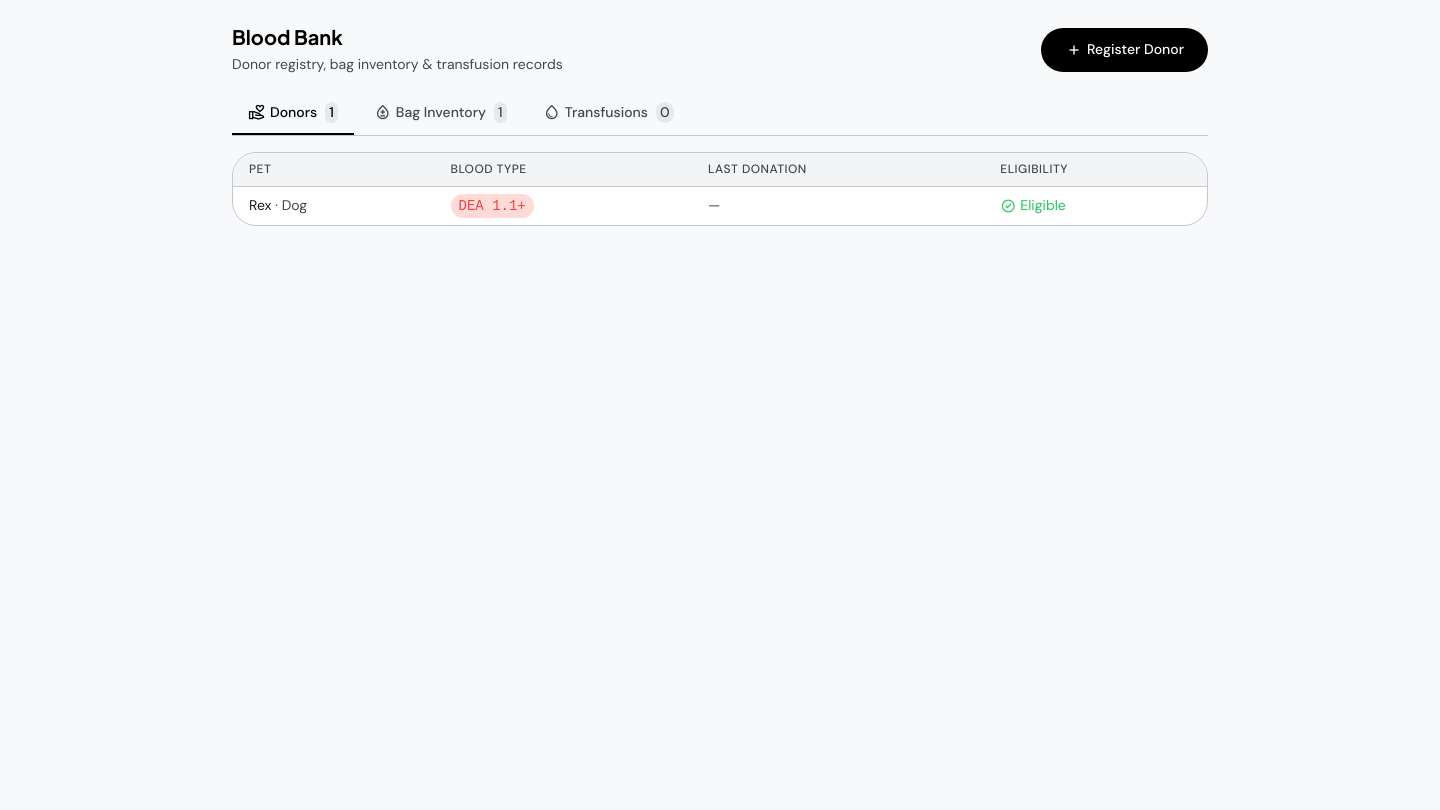
Test: AdminBloodBank — DonorModal (MODAL-9, dismissible default) › Cancel closes without submitting
Step 1. Click the button "Register Donor" → (1124, 50), box [1041,28,1208,72]
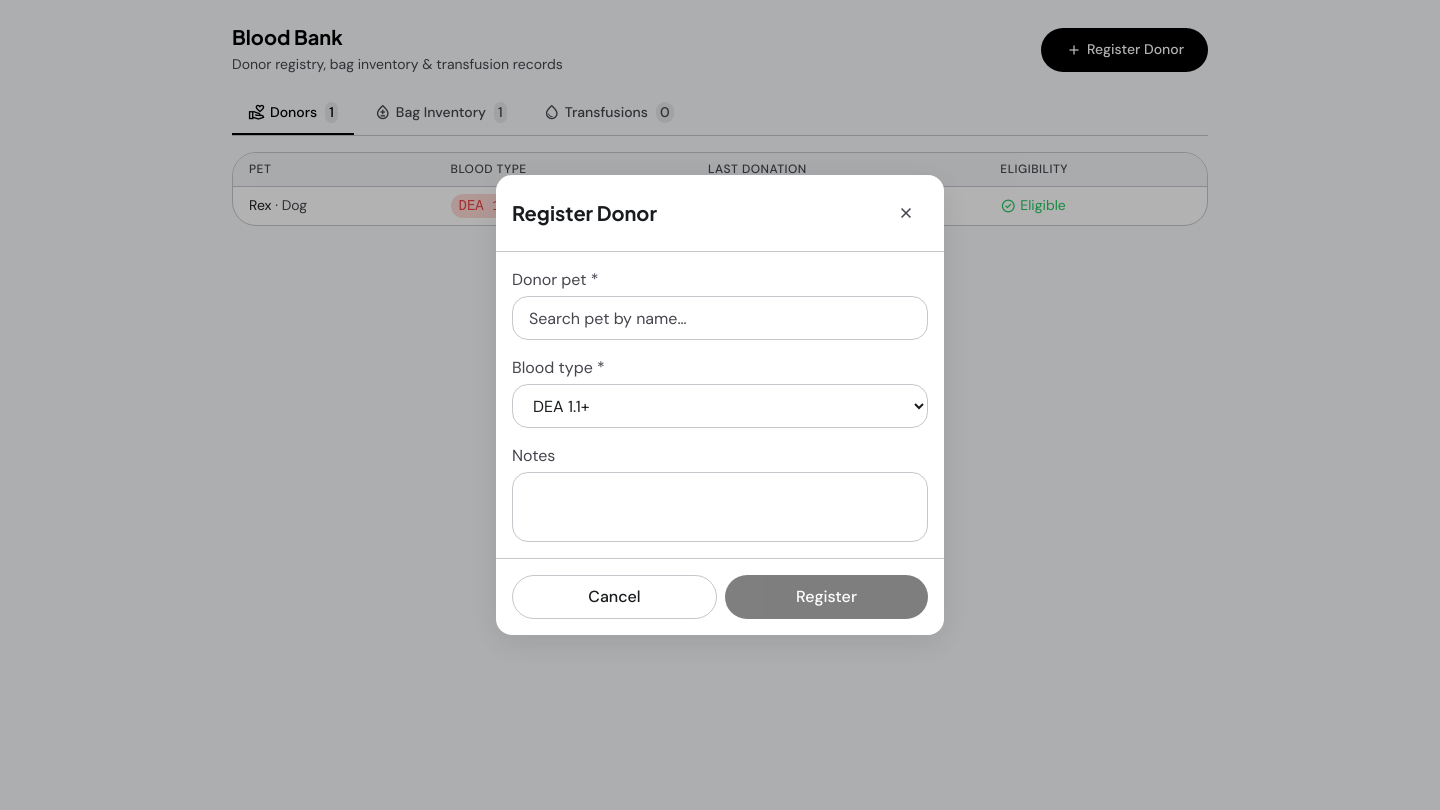
Step 2. Click the button "Cancel" → (614, 597), box [512,575,717,619]
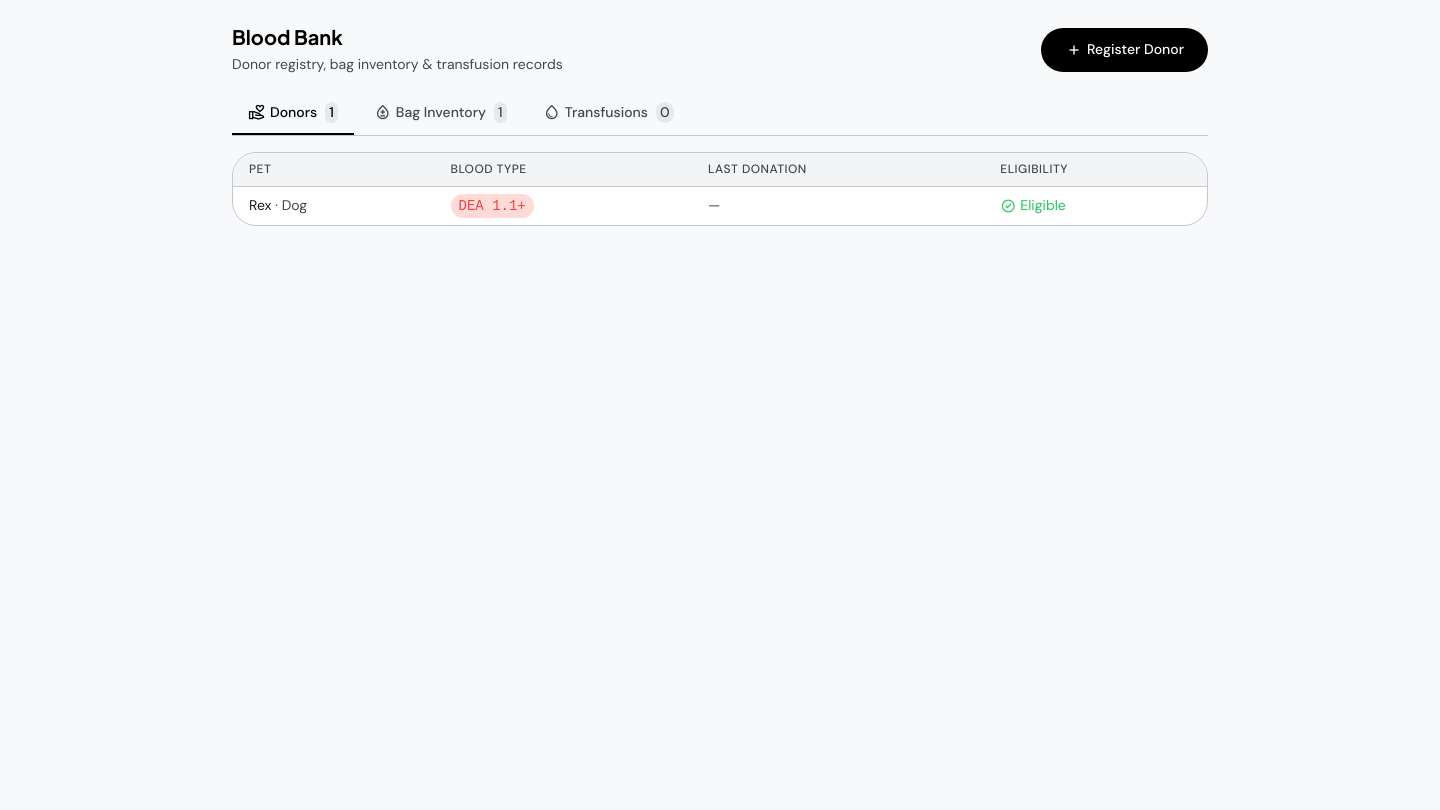
Expected: the dialog is gone
